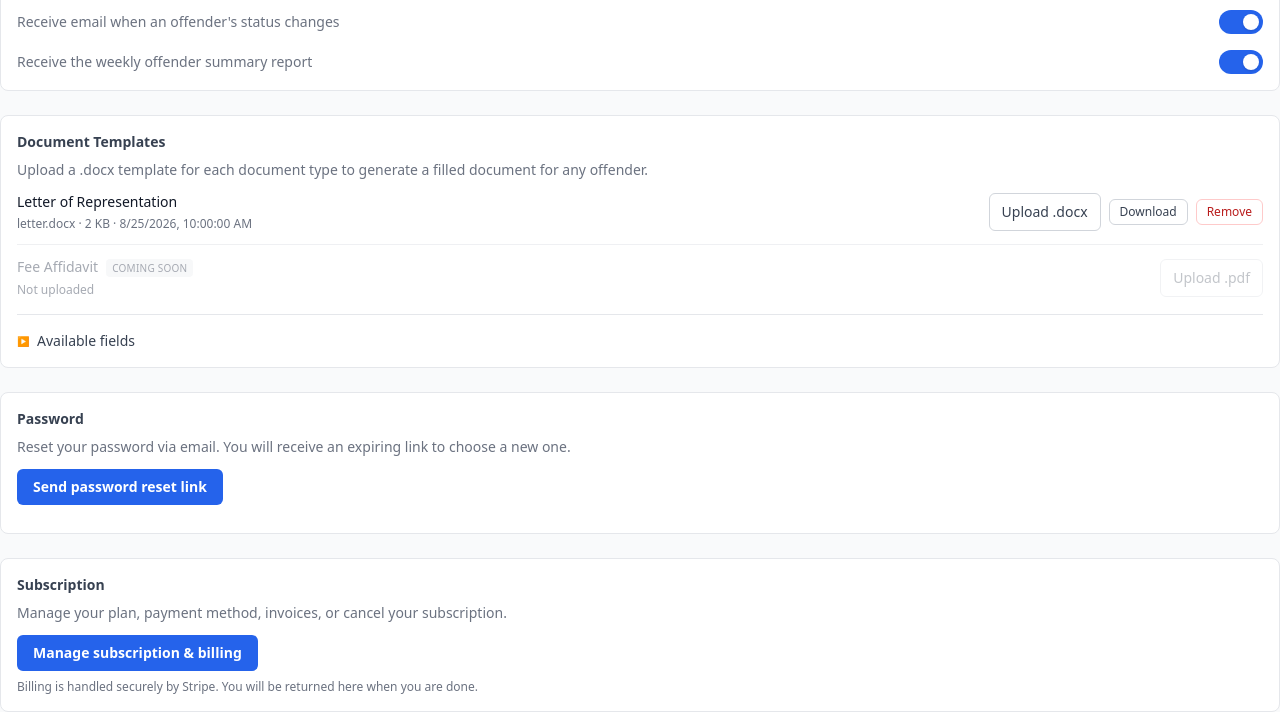
Scenario: Settings › password reset › shows a confirmation after the reset email is sent
The width and height of the screenshot is (1280, 712).
(page scrolled)
Click the button "Send password reset link": point(120, 487) top-left (17, 469), bottom-right (223, 505)
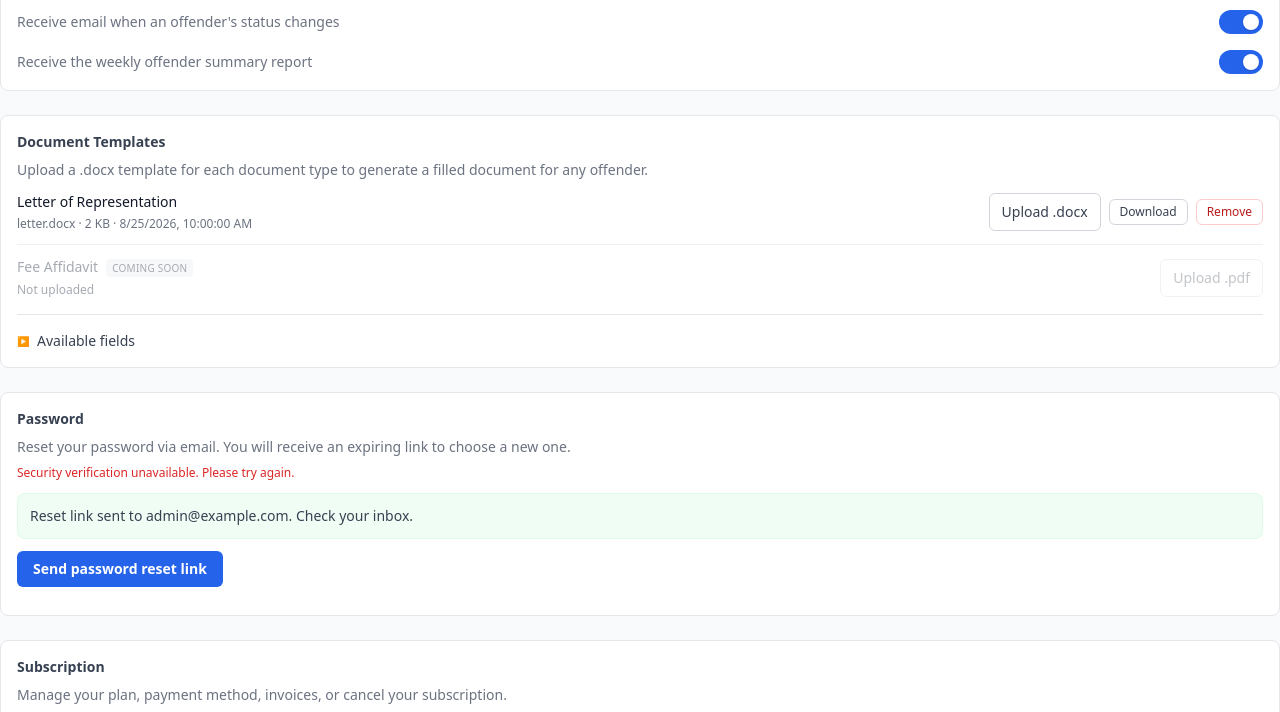
Expected: the text "Reset link sent to admin@example.com. Check your inbox." is shown, top-left (17, 493), bottom-right (1263, 539)
